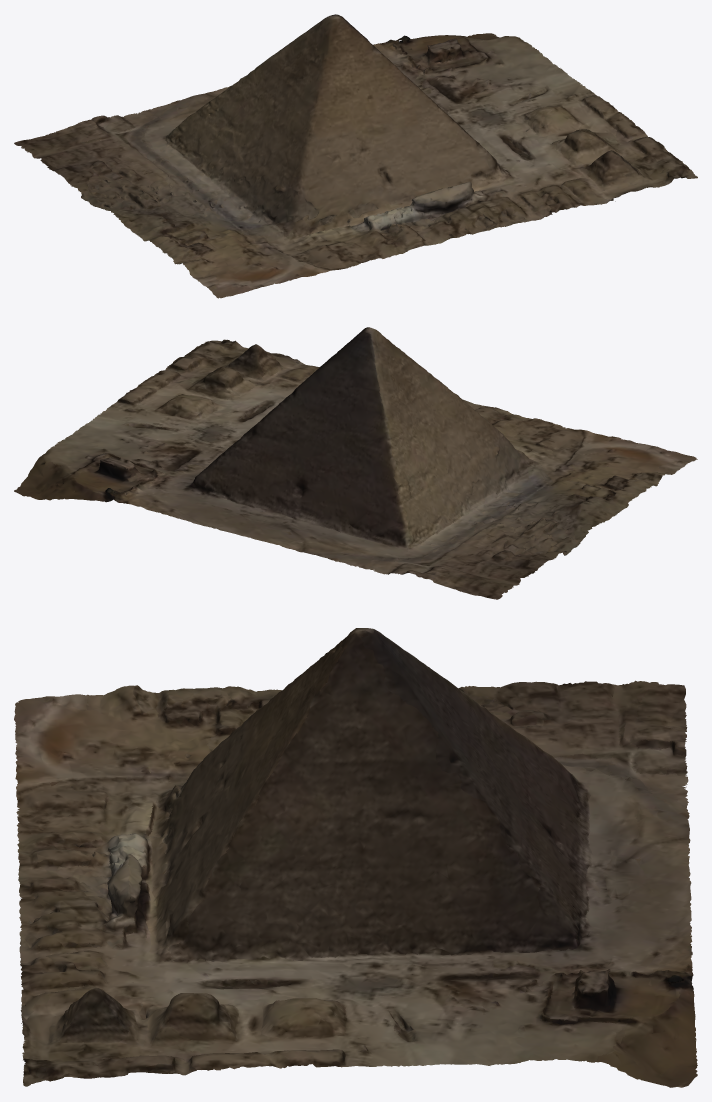
File: giza.glb
3 views of the same model, one above another, from view 1: azimuth 30°, elevation 25°; view 2: azimuth 150°, elevation 25°; view 3: azimuth 270°, elevation 25° (orthographic). The views are drawn at different scales.
Visible parts, largest first — view 1: mat-0; view 2: mat-0; view 3: mat-0.
Part boxes in pixels (<box>): mat-0: <box>14,14,697,298</box>; mat-0: <box>14,327,697,599</box>; mat-0: <box>14,628,697,1087</box>.
Bounding box in the file's own units: 3.99 × 1.23 × 2.95.
1 material, 1 textured.
